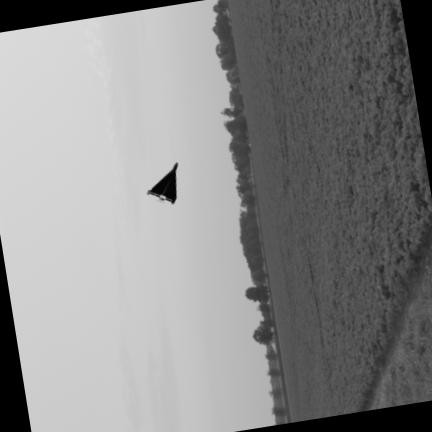Shahed: (147, 162, 177, 203)
